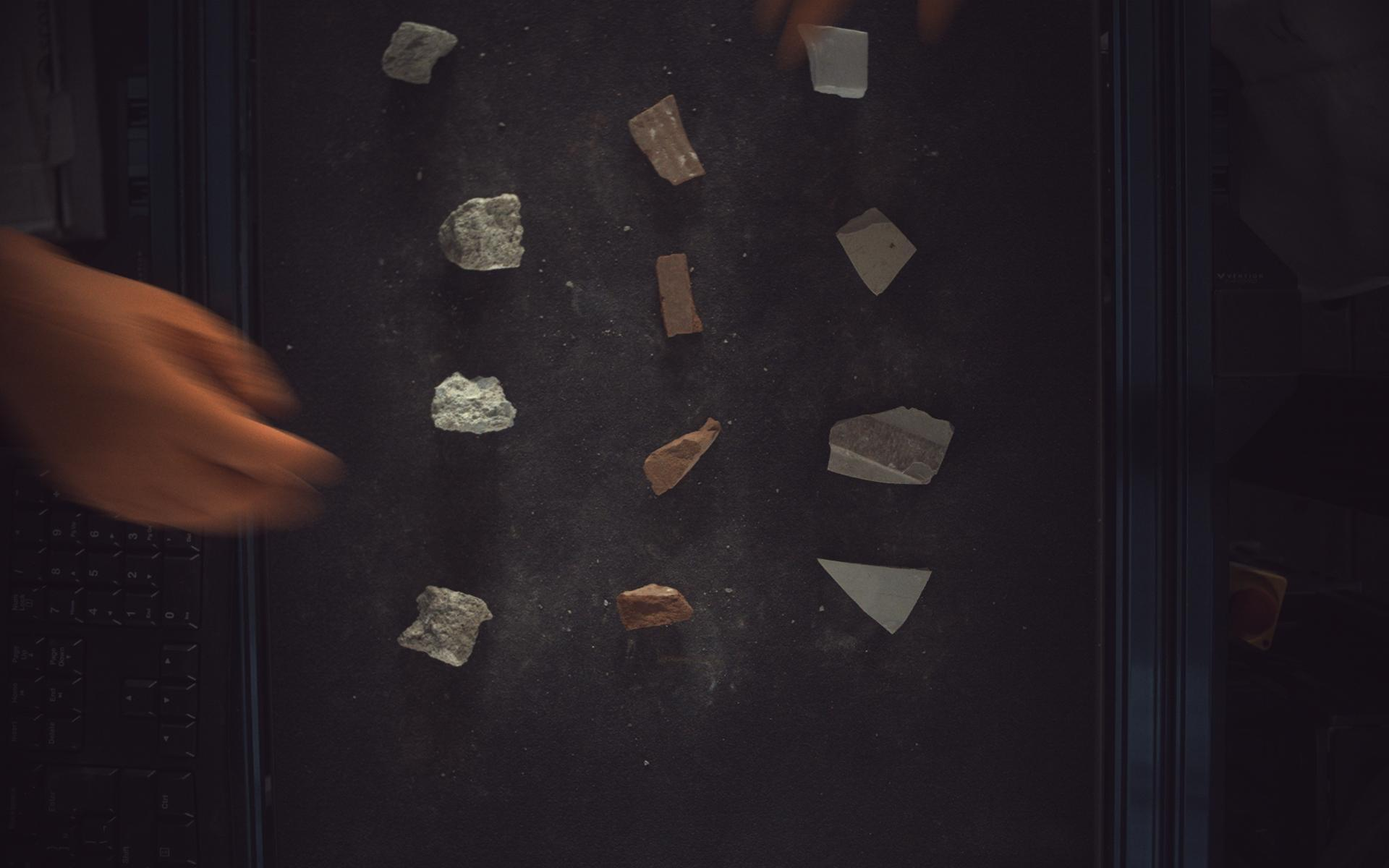brick: (629, 93, 706, 184), (645, 418, 722, 496), (658, 252, 704, 337), (618, 584, 694, 631)
concrete: (398, 587, 493, 668), (439, 192, 524, 271), (431, 373, 517, 434), (382, 20, 457, 82)
tile: (831, 407, 956, 485), (820, 559, 933, 635), (838, 208, 917, 294), (800, 22, 870, 97)
